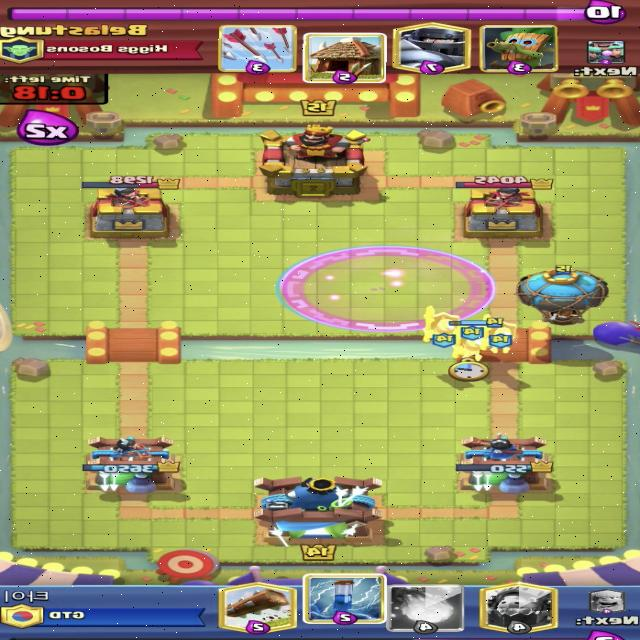Player-Balloon: (513, 264, 610, 326)
Player-Guard: (422, 305, 461, 349), (450, 326, 488, 363), (483, 314, 514, 355)
